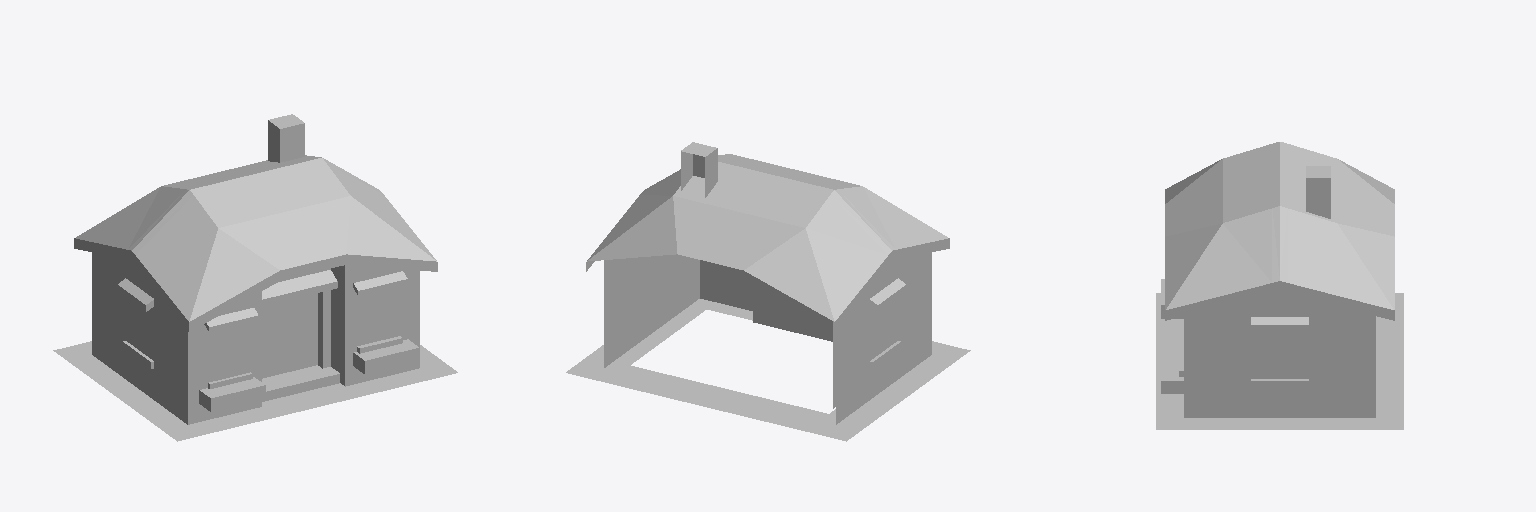
File: Cute House 2.obj
3 views of the same model, side by side, from view 1: azimuth 30°, elevation 25°; view 2: azimuth 150°, elevation 25°; view 3: azimuth 270°, elevation 25° (orthographic).
Parts seen in each view (by area): view 1: polygon5.051, polygon7.039, polygon8.038, polygon1.130, polygon6.043, polygon0.133, polygon4.056, polygon3.065; view 2: polygon5.051, polygon1.130, polygon7.039, polygon2.103, polygon8.038, polygon6.043, polygon3.065; view 3: polygon5.051, polygon7.039, polygon1.130, polygon8.038, polygon6.043, polygon3.065, polygon4.056.
Part boxes in pixels (x1,y1,x2,y2): polygon5.051: (76, 155, 436, 326); polygon7.039: (92, 253, 419, 414); polygon8.038: (74, 157, 437, 424); polygon1.130: (53, 341, 457, 441); polygon6.043: (122, 286, 402, 388); polygon0.133: (262, 293, 317, 378); polygon4.056: (199, 339, 419, 411); polygon3.065: (262, 114, 339, 391); polygon5.051: (587, 154, 947, 321); polygon1.130: (566, 299, 970, 441); polygon7.039: (604, 253, 931, 414); polygon2.103: (608, 255, 872, 408); polygon8.038: (586, 160, 949, 424); polygon6.043: (870, 298, 901, 368); polygon3.065: (681, 142, 717, 197); polygon5.051: (1165, 144, 1394, 324); polygon7.039: (1184, 292, 1375, 408); polygon1.130: (1156, 293, 1403, 429); polygon8.038: (1165, 142, 1394, 417); polygon6.043: (1179, 332, 1308, 387); polygon3.065: (1306, 166, 1330, 218); polygon4.056: (1161, 279, 1183, 393).
Bounding box in the file's own units: 17 × 12.5 × 13.